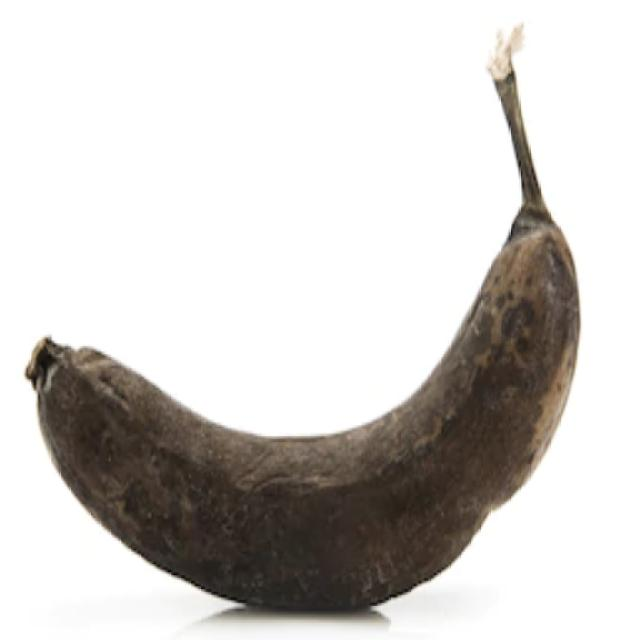Rotten: (6, 13, 593, 628)
